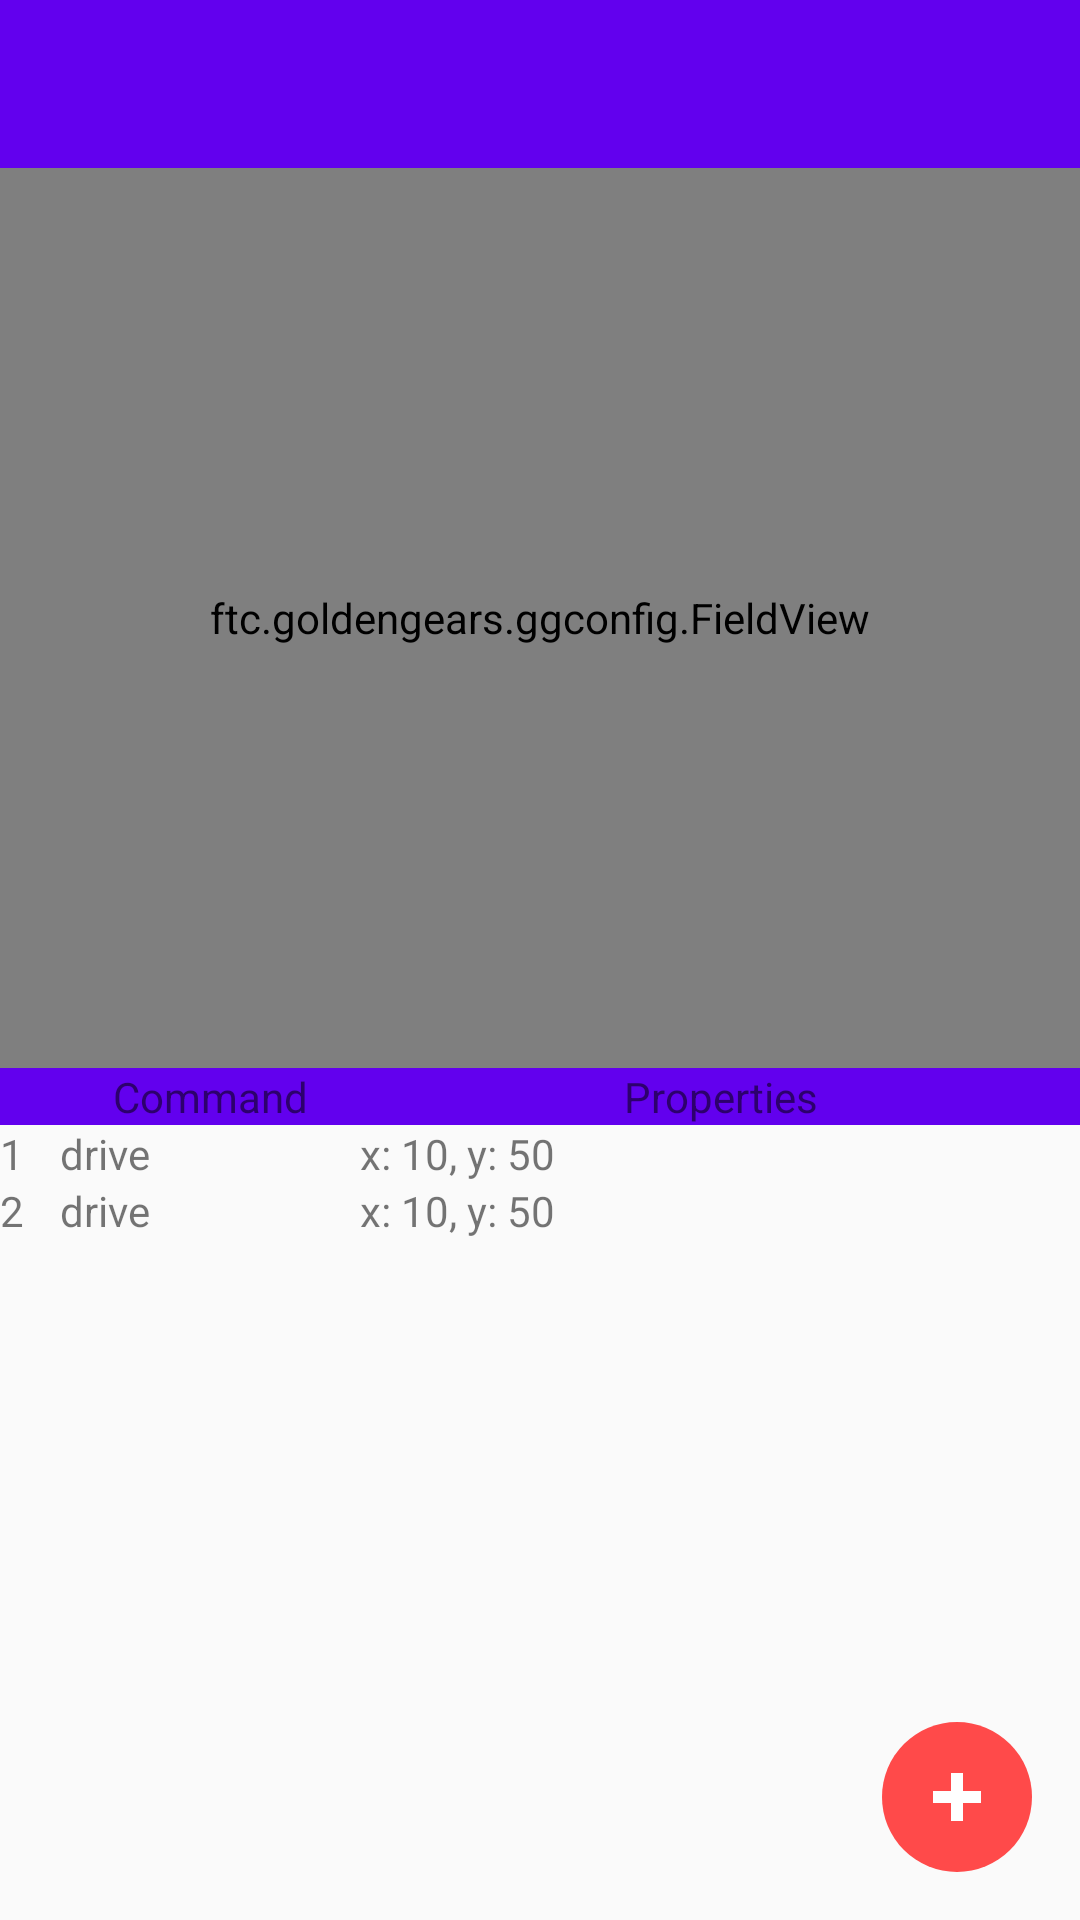

Where to tap for icons on this 1080 × 1920 app screen, as (x=x, y=y):
Add command: (x=957, y=1797)
